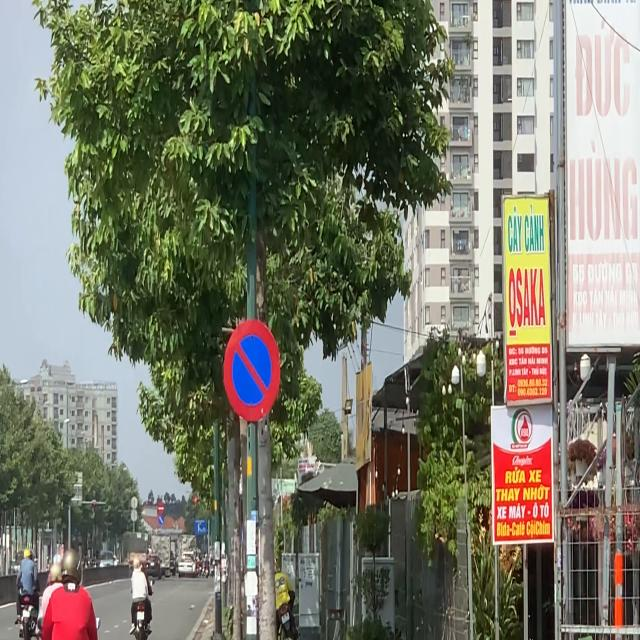Cam do: (222, 307, 282, 438)
Cam nguoc chieu: (156, 500, 164, 514)
Hieu lenh: (157, 515, 165, 525)
